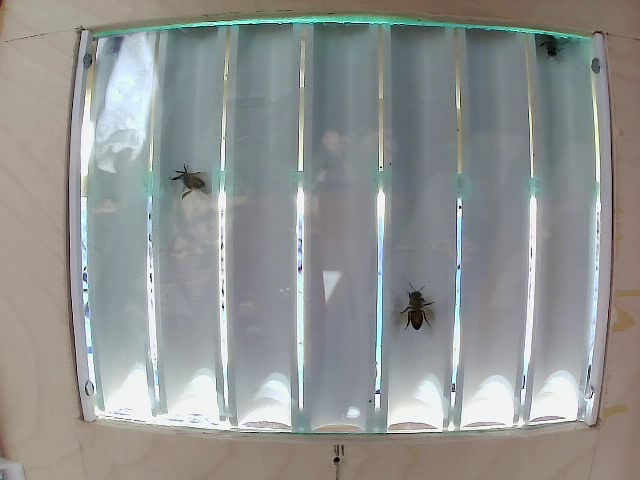bee: (397, 278, 434, 344), (160, 167, 205, 200)
